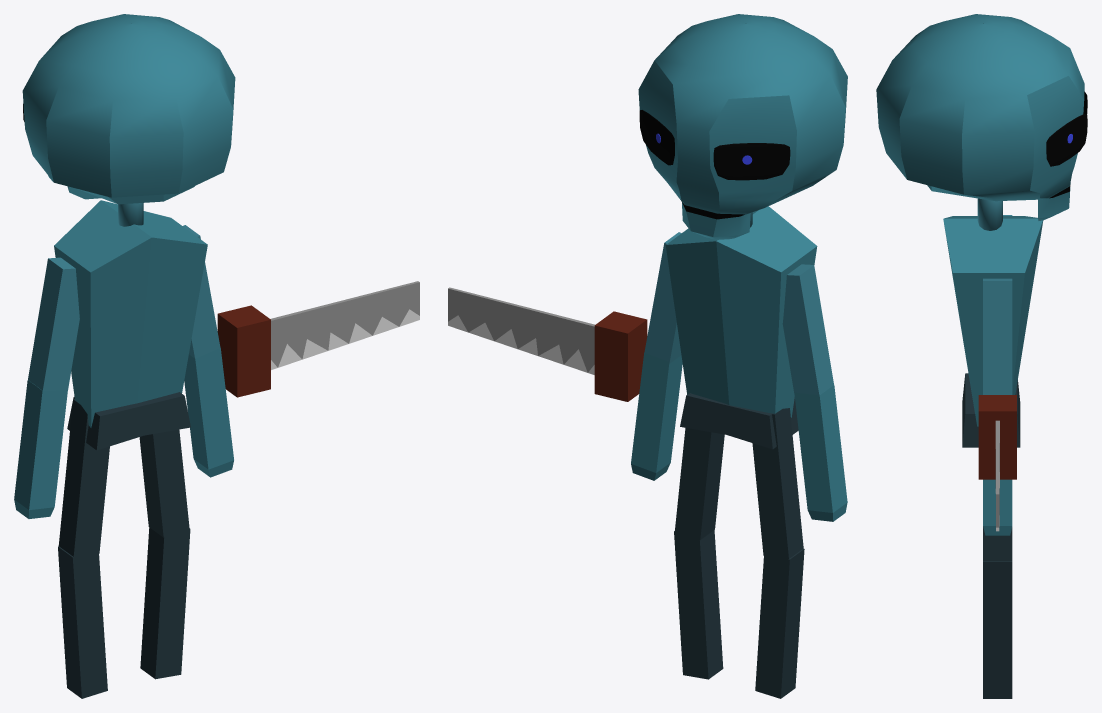
File: Рабочий Зомби с Пилой.fbx
3 views of the same model, side by side, from view 1: azimuth 30°, elevation 25°; view 2: azimuth 150°, elevation 25°; view 3: azimuth 270°, elevation 25° (orthographic).
Parts seen in each view (by area): view 1: Plane.004, Cube.023, Cube.018, Cube.037, Cube.021, Cube.019, Cube.022, Cube.020; view 2: Plane.004, Cube.023, Cube.018, Cube.037, Cube.021, Cube.019, Cube.022, Cube.020; view 3: Plane.004, Cube.023, Cube.018, Cube.037, Cube.022, Cube.021, Cube.020, Cube.019.
Part boxes in pixels (x1,y1,x2,y2): Plane.004: (22, 14, 235, 204); Cube.023: (54, 200, 207, 427); Cube.018: (58, 527, 190, 698); Cube.037: (217, 281, 419, 397); Cube.021: (14, 347, 233, 518); Cube.019: (58, 399, 189, 556); Cube.022: (28, 225, 220, 390); Cube.020: (67, 392, 190, 450); Plane.004: (638, 14, 847, 239); Cube.023: (665, 206, 817, 417); Cube.018: (674, 530, 804, 698); Cube.037: (448, 287, 647, 401); Cube.021: (631, 352, 847, 521); Cube.019: (675, 393, 803, 558); Cube.022: (644, 232, 833, 395); Cube.020: (680, 393, 798, 449); Plane.004: (876, 14, 1087, 220); Cube.023: (943, 198, 1043, 426); Cube.018: (983, 561, 1012, 698); Cube.037: (978, 395, 1016, 531); Cube.022: (983, 215, 1012, 394); Cube.021: (983, 479, 1012, 535); Cube.020: (962, 373, 1020, 447); Cube.019: (983, 526, 1012, 561).
Bounding box in the file's own units: 146 × 233 × 68.37.
